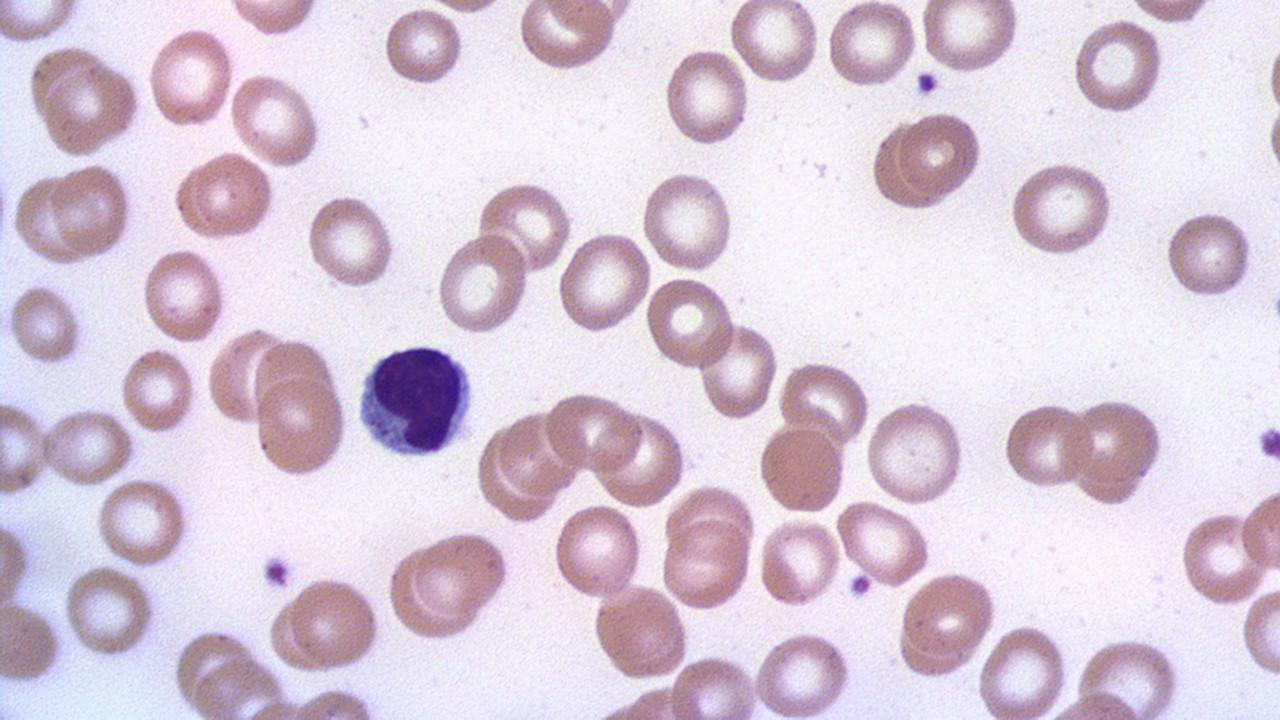Platelets: (1254, 422, 1280, 466), (914, 68, 942, 98), (846, 572, 874, 602)
RBC: (1067, 393, 1169, 506), (864, 398, 966, 507), (1008, 159, 1116, 258), (252, 371, 348, 481), (557, 229, 655, 336), (639, 167, 737, 274), (434, 231, 532, 336), (475, 177, 576, 277), (591, 582, 691, 682), (43, 59, 140, 160), (593, 405, 688, 508), (146, 25, 235, 134), (974, 620, 1072, 718), (304, 190, 398, 292), (551, 500, 643, 604), (286, 574, 383, 672), (228, 71, 324, 170), (1072, 15, 1166, 116), (662, 45, 752, 150), (1177, 508, 1273, 606), (63, 562, 157, 662), (412, 528, 513, 620), (644, 274, 735, 374), (752, 627, 853, 717), (696, 317, 780, 425), (94, 477, 191, 570), (1074, 634, 1184, 716), (899, 572, 999, 662), (834, 498, 934, 588), (140, 245, 227, 347), (824, 0, 920, 91), (1001, 397, 1091, 492), (1165, 206, 1255, 301), (542, 389, 640, 476), (207, 326, 290, 428), (660, 519, 752, 611), (776, 360, 874, 446), (49, 160, 133, 260), (895, 108, 985, 201), (756, 425, 848, 514), (757, 514, 842, 610), (727, 0, 819, 88), (191, 149, 277, 242), (40, 406, 137, 488), (495, 409, 583, 498), (918, 1, 1022, 76), (25, 43, 113, 131), (516, 1, 618, 72), (13, 172, 88, 268), (119, 345, 197, 436), (383, 4, 465, 90), (7, 280, 85, 368), (194, 655, 292, 719), (664, 654, 760, 716), (0, 596, 66, 686), (0, 399, 53, 498), (0, 509, 36, 616), (1238, 484, 1280, 574), (223, 0, 322, 38), (0, 1, 82, 46), (1240, 586, 1280, 678), (1119, 0, 1219, 26)
WBC: (350, 336, 480, 462)
